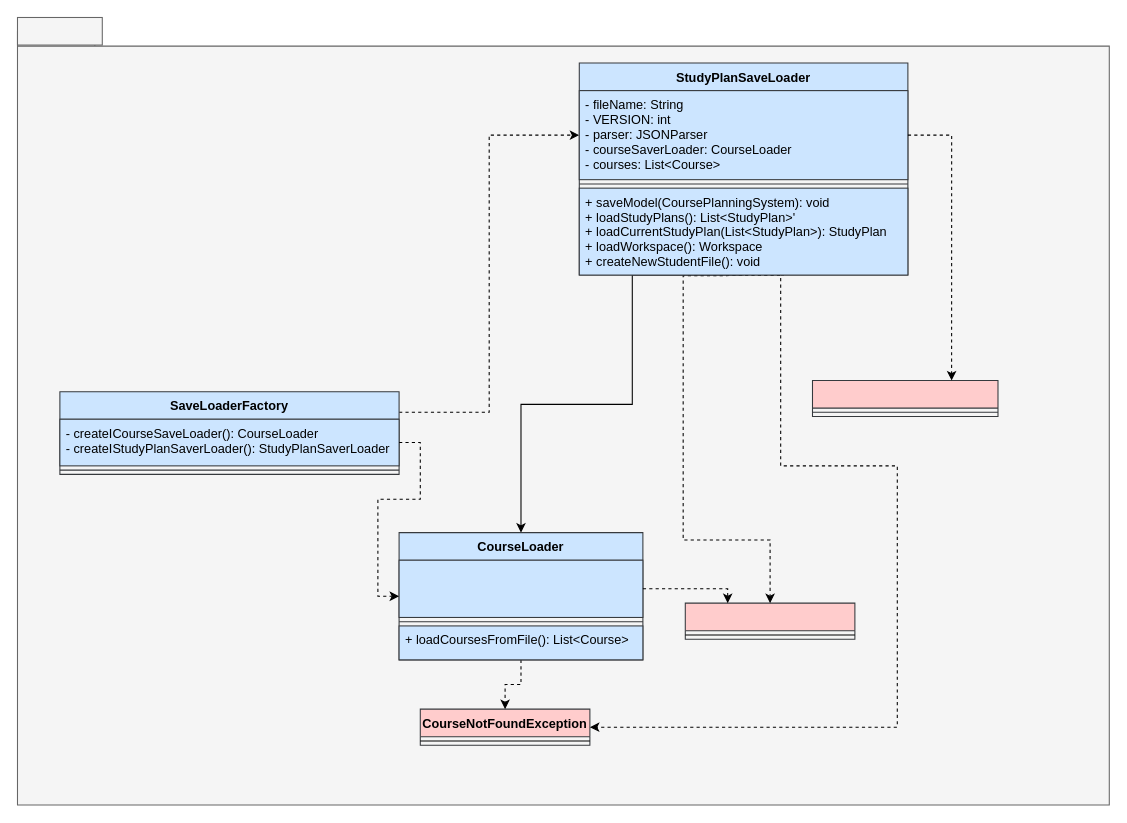
The diagram is 1127 pixels wide and 823 high, and some of its shapes have lost their labels. Here are the shapes that lost their labels. From the top down, the centre of each, then its label:
At (59,30): "IO".
At (904,398): "StudyPlanNotFoundException".
At (520,588): "- fileName: String - VERSION: int - parser: JSONParser".
At (769,620): "OldFileException".
